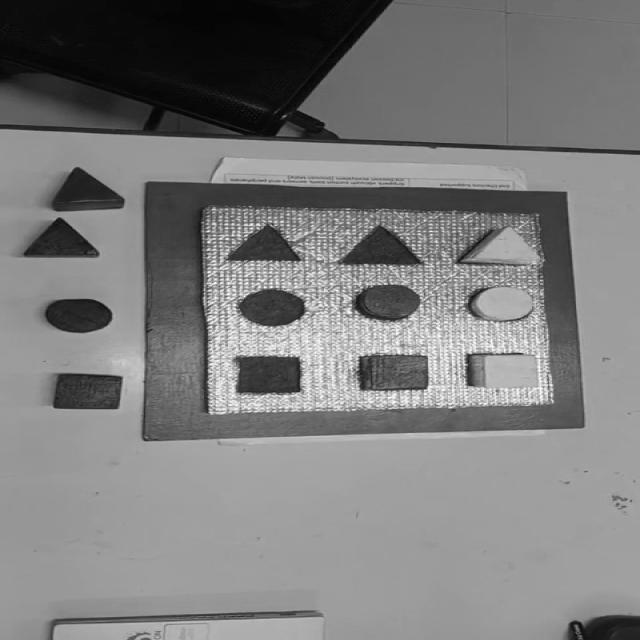bcircle: (44, 298, 114, 333)
bcube: (52, 372, 124, 409)
btriangle: (23, 218, 101, 258)
mtcircle: (238, 289, 308, 326)
mtcube: (235, 355, 303, 394)
mttriangle: (338, 225, 425, 266), (228, 223, 306, 263)
rcircle: (353, 283, 426, 321)
rcube: (358, 354, 431, 392)
rtriangle: (56, 164, 130, 210)
wb: (195, 205, 558, 413)
ycircle: (467, 284, 537, 321)
ycube: (468, 354, 542, 389)
ytriangle: (458, 225, 543, 266)
